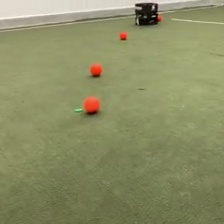ball: (83, 94, 100, 115), (89, 62, 103, 78), (119, 30, 127, 40), (157, 14, 162, 22)
robot: (133, 2, 159, 27)
